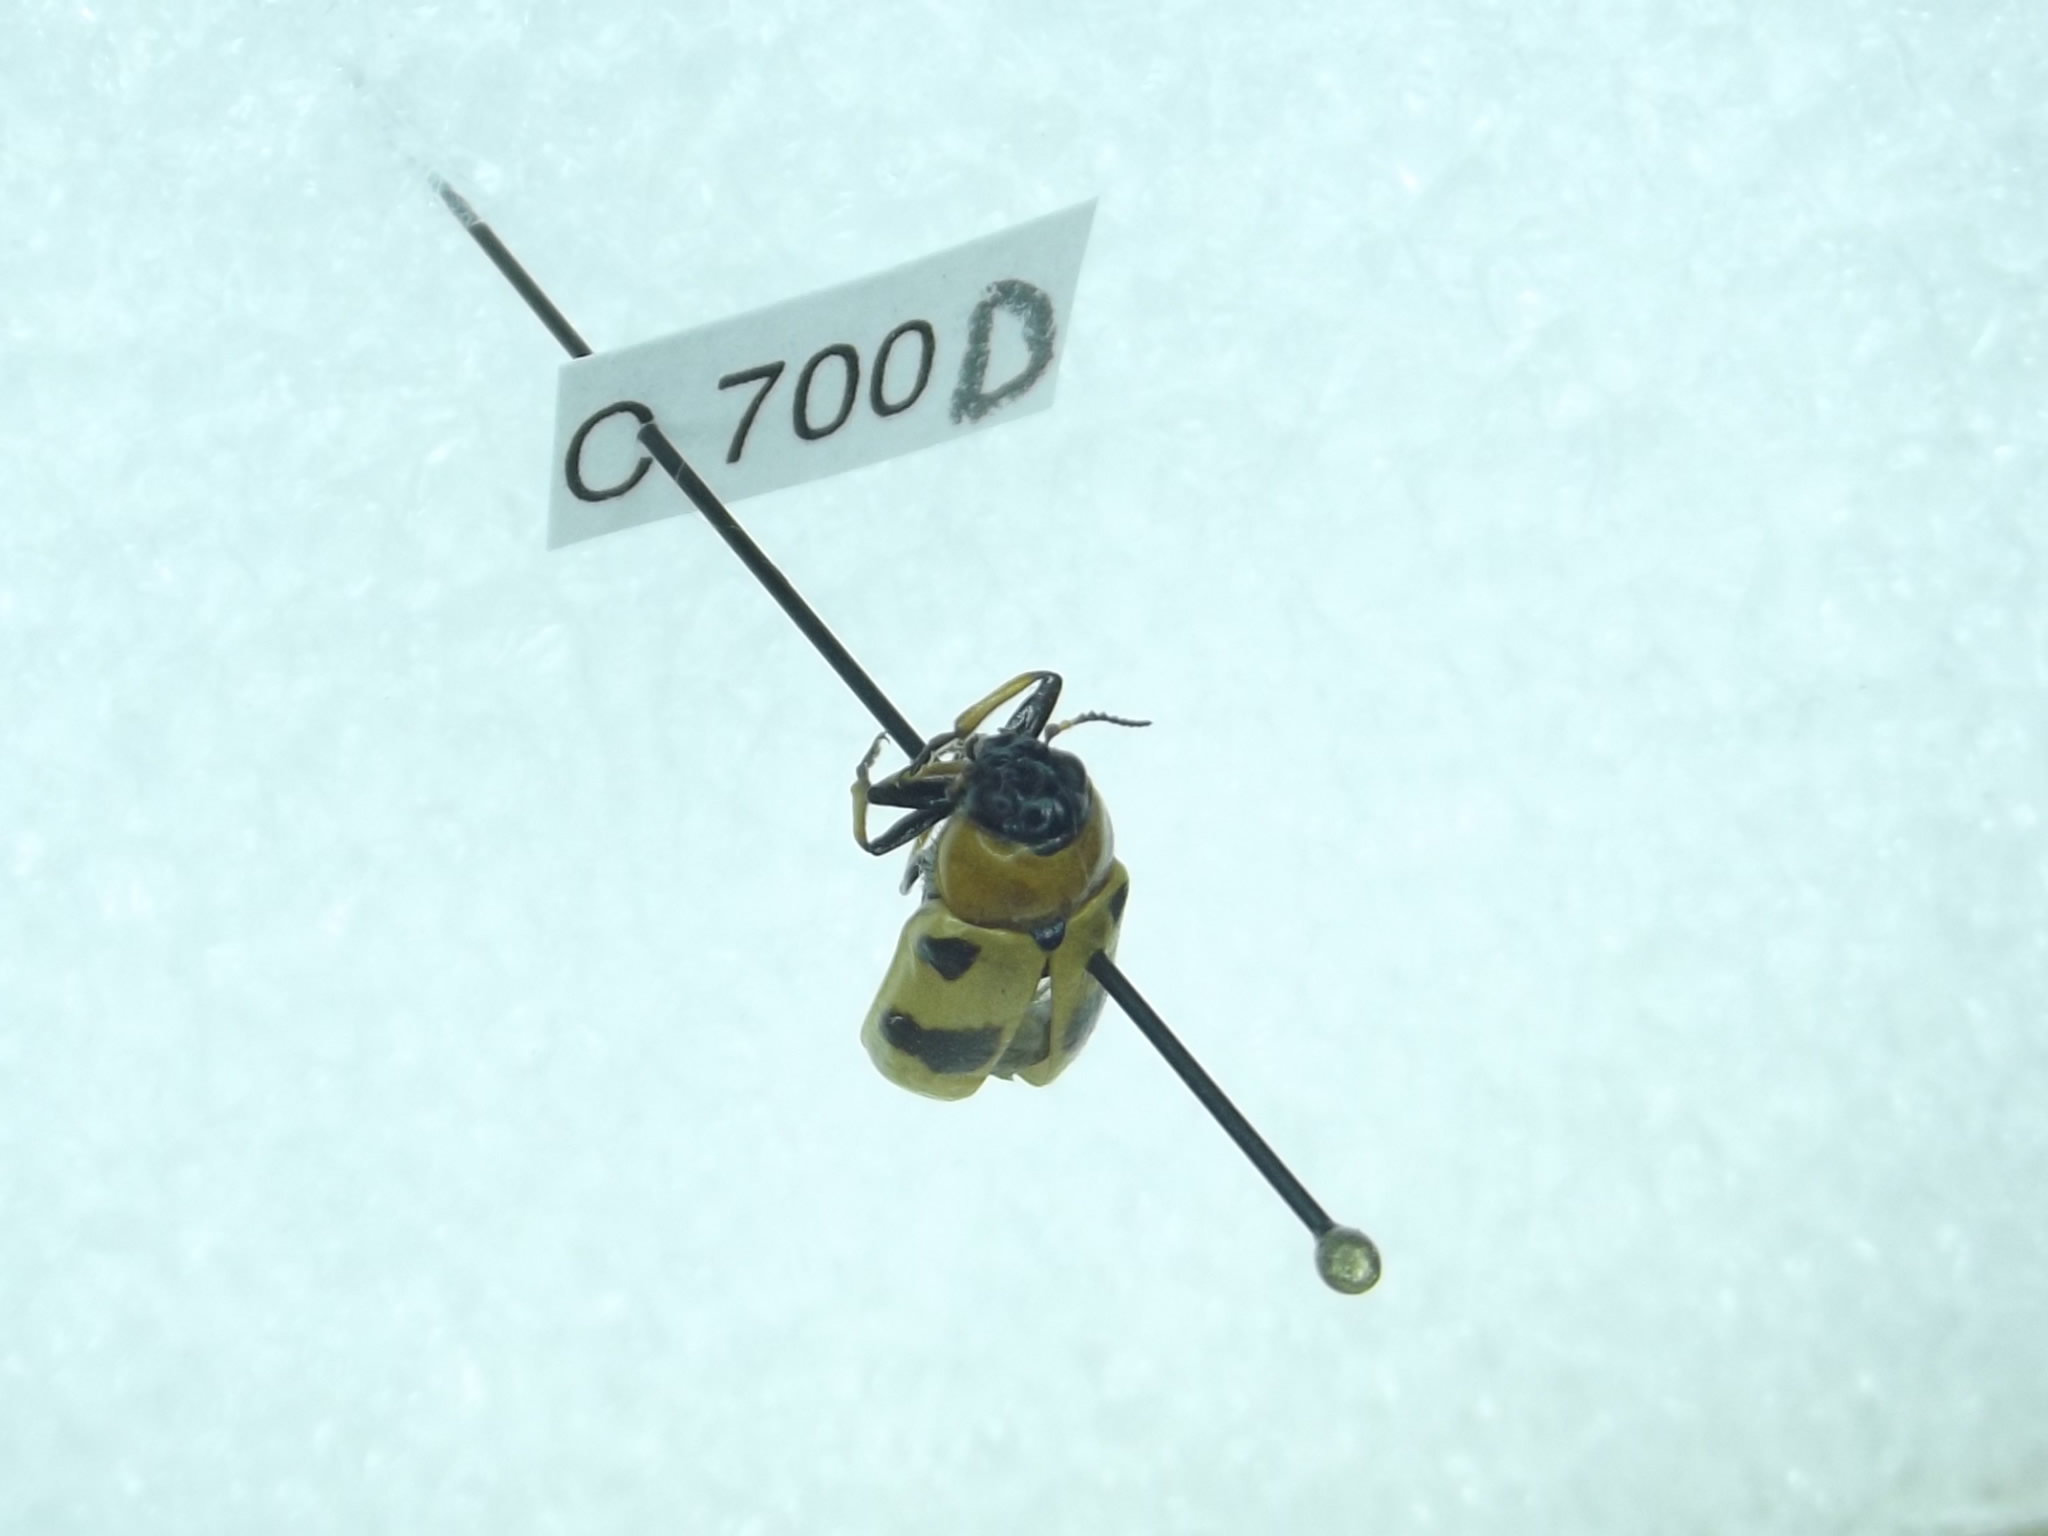Tituboea_macropus: (822, 658, 1161, 1121)
